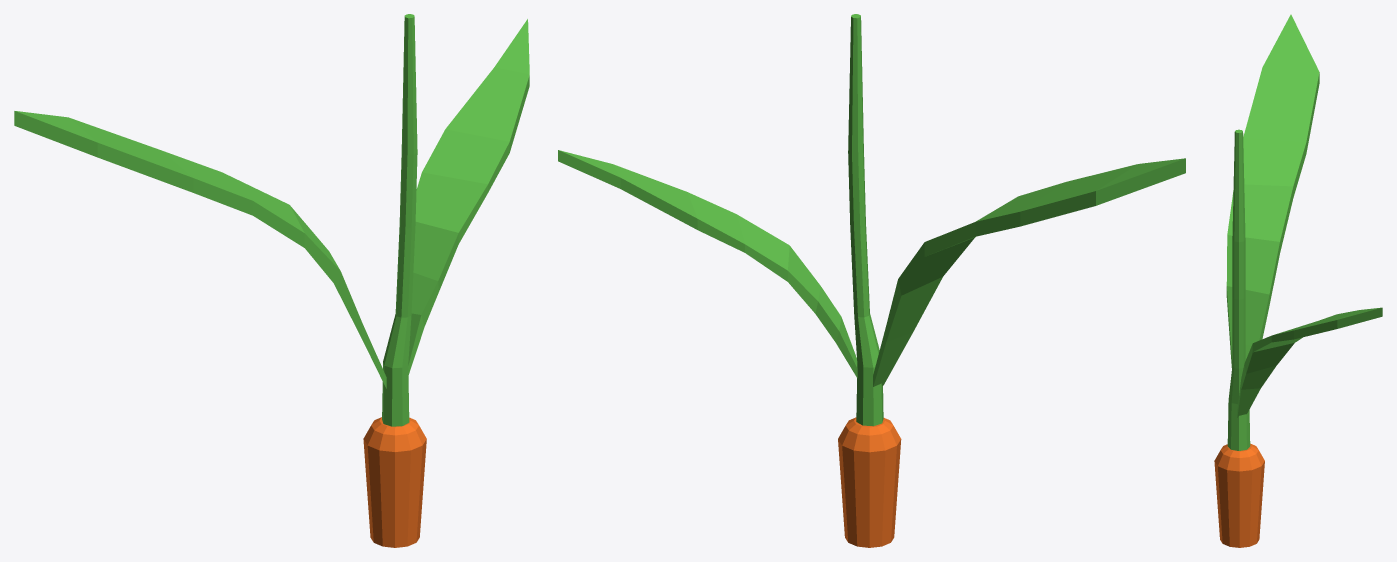
Rendered from carrot_flowering.fbx.
3 renders of one model, left to right at view 1: azimuth 30°, elevation 25°; view 2: azimuth 150°, elevation 25°; view 3: azimuth 270°, elevation 25°, orthographic. The views are drawn at different scales.
Visible parts, largest first — view 1: carrot_flowering; view 2: carrot_flowering; view 3: carrot_flowering.
Boxes of the visible parts, bbox=[...] form: carrot_flowering: bbox=[14, 14, 529, 547]; carrot_flowering: bbox=[558, 14, 1185, 547]; carrot_flowering: bbox=[1214, 14, 1382, 547].
Bounding box in the file's own units: 45.38 × 39.35 × 14.5.
